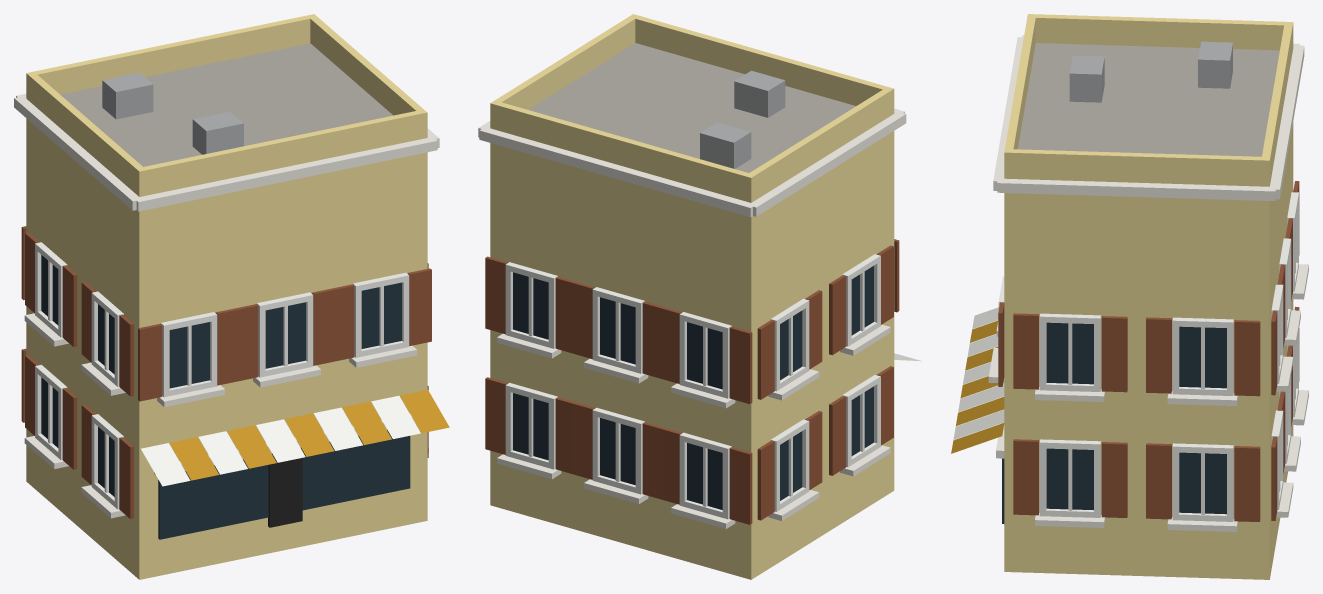
The picture shows the model from 3 angles, left to right: view 1: azimuth 30°, elevation 25°; view 2: azimuth 150°, elevation 25°; view 3: azimuth 270°, elevation 25°; orthographic projection. The views are drawn at different scales.
Parts seen in each view (by area): view 1: b10271; view 2: b10271; view 3: b10271.
Boxes of the visible parts, box(x1,y1,x2,y2) form: b10271: box(14, 14, 449, 579); b10271: box(478, 14, 921, 579); b10271: box(951, 14, 1308, 579).
Size of the model in its own units: 3525 by 4361 by 3349.
